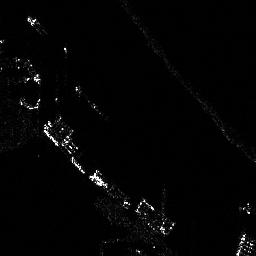ship: (76, 84, 102, 115), (26, 16, 47, 37)
